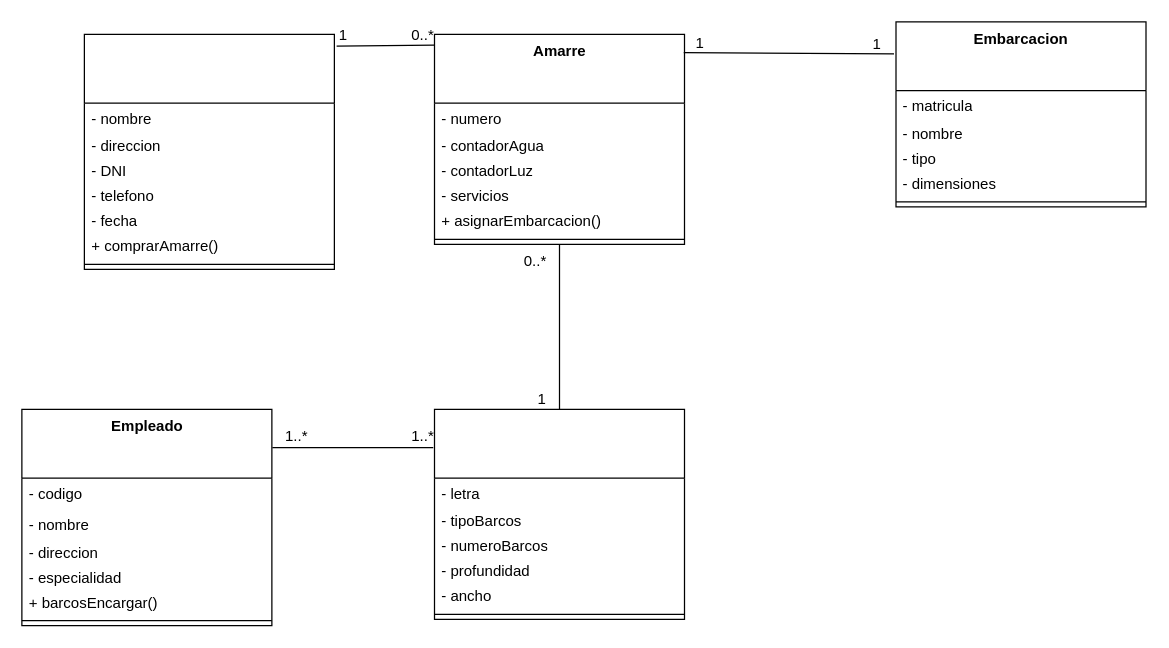
Some shapes in this 1169 by 648 pixel diagram are drawn without their labels. Each missing label, with the box of its shape:
Socio: (83, 33, 334, 269)
Zona: (433, 408, 684, 619)
